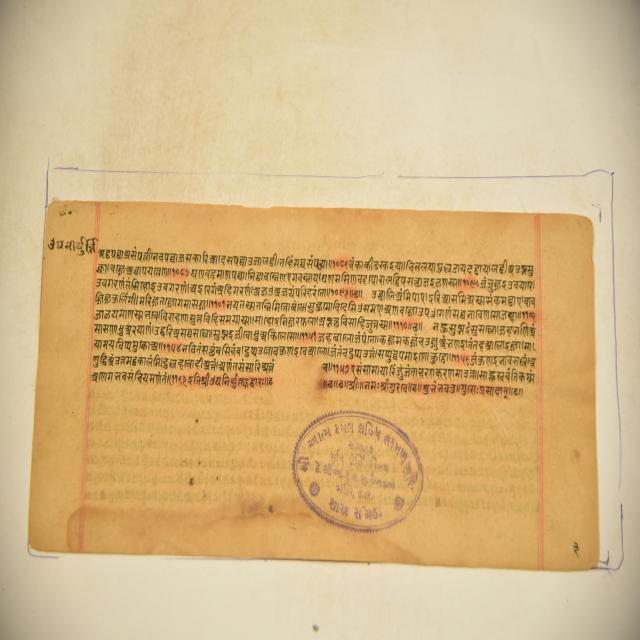text_paragraph: (24, 194, 600, 571)
